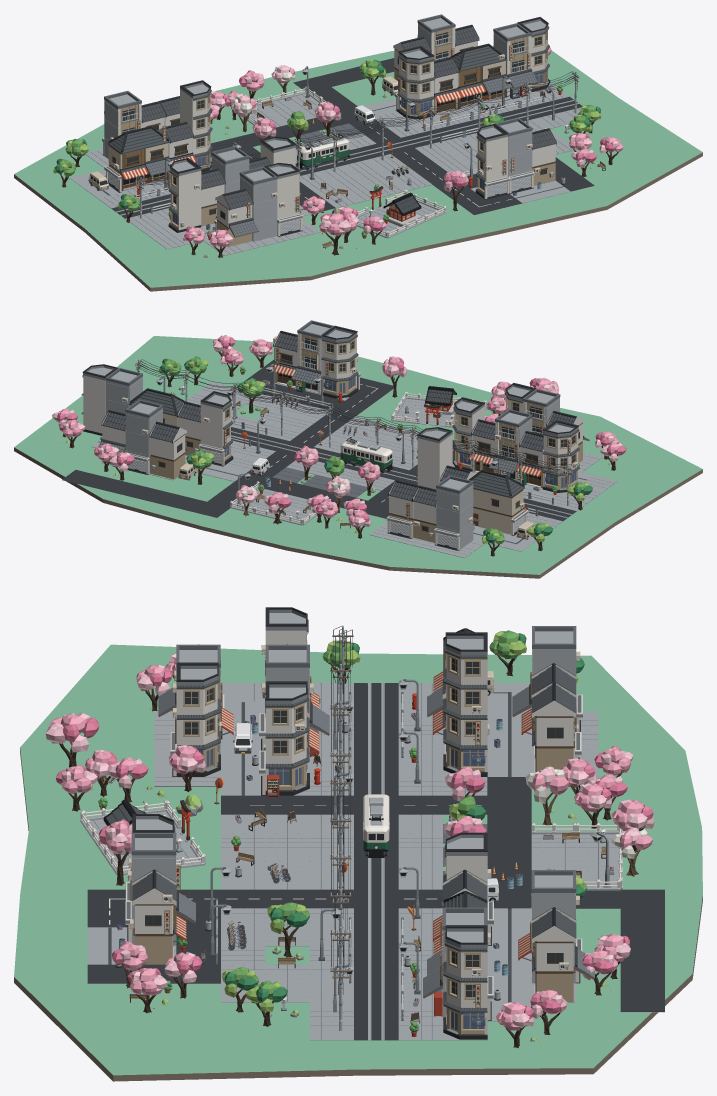
File: japanese-suburban-city-street.glb
The picture shows the model from 3 angles, top to bottom: view 1: azimuth 30°, elevation 25°; view 2: azimuth 150°, elevation 25°; view 3: azimuth 270°, elevation 25°; orthographic projection. The views are drawn at different scales.
Visible parts, largest first — view 1: island, shophouse-shell (×24), cherry-blossom-tree-mesh (×6), utility-pole-mesh (×4), city-tram, shrine-hall-shell; view 2: island, shophouse-shell (×24), cherry-blossom-tree-mesh (×6), utility-pole-mesh (×5), city-tram, shrine-hall-shell; view 3: island, shophouse-shell (×18), cherry-blossom-tree-mesh (×26), pavement-surface (×28), asphalt-tile-surface (×22), tram-track-tile-slab (×16), alley-tile-surface (×6), city-tram.
Part boxes in pixels (box(x1,y1,x2,y2)): island: box(14, 50, 702, 291); shophouse-shell (×24): box(104, 14, 556, 246); cherry-blossom-tree-mesh (×6): box(231, 59, 468, 255); utility-pole-mesh (×4): box(332, 71, 579, 160); city-tram: box(297, 136, 349, 169); shrine-hall-shell: box(383, 192, 422, 227); island: box(14, 336, 702, 578); shophouse-shell (×24): box(81, 320, 583, 549); cherry-blossom-tree-mesh (×6): box(186, 356, 406, 524); utility-pole-mesh (×5): box(230, 382, 573, 505); city-tram: box(340, 439, 392, 472); shrine-hall-shell: box(425, 386, 456, 416); island: box(14, 644, 702, 1081); shophouse-shell (×18): box(131, 607, 576, 1039); cherry-blossom-tree-mesh (×26): box(45, 630, 654, 1048); pavement-surface (×28): box(221, 683, 618, 1040); asphalt-tile-surface (×22): box(87, 777, 664, 1012); tram-track-tile-slab (×16): box(354, 683, 398, 1040); alley-tile-surface (×6): box(221, 739, 531, 1002); city-tram: box(363, 794, 389, 857).
Size of the model in its own units: 91.78 by 13.23 by 62.04.
